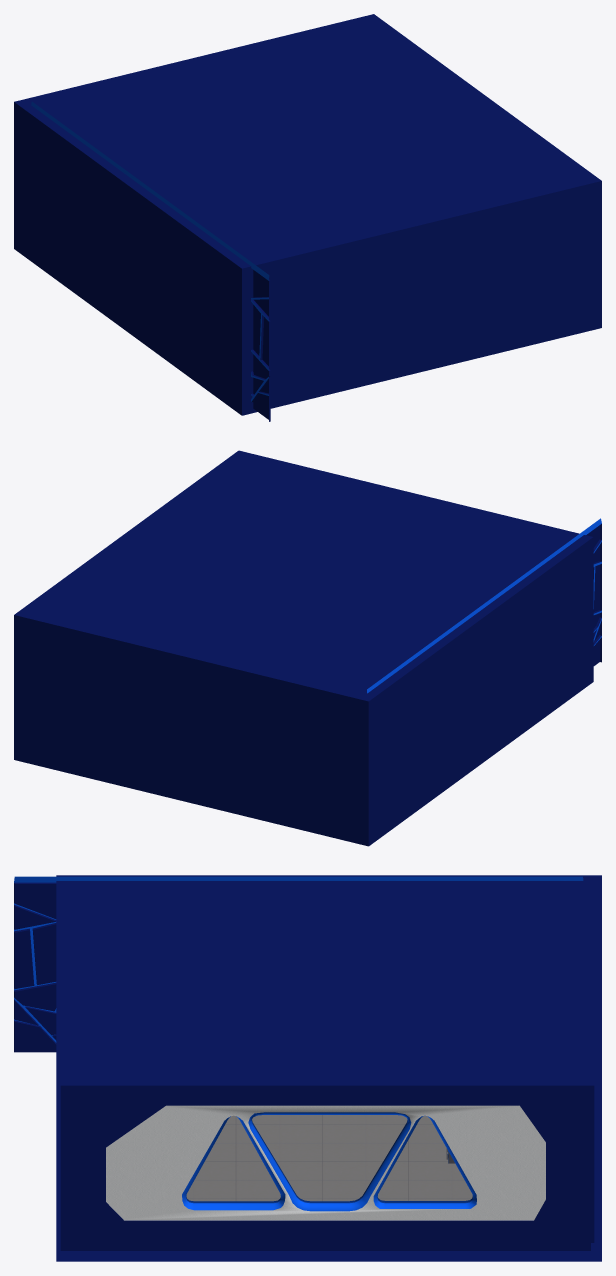
File: huaxuekeshi.FBX
The picture shows the model from 3 angles, top to bottom: view 1: azimuth 30°, elevation 25°; view 2: azimuth 150°, elevation 25°; view 3: azimuth 270°, elevation 25°; orthographic projection. The views are drawn at different scales.
Parts seen in each view (by area): view 1: Box091, kejiqiang; view 2: Box091, kejiqiang; view 3: Box091, Box090, Box015, Box016, kx_yqdct_cizhuan, kejiqiang, Box075.
Part boxes in pixels (bbox=[...]): Box091: bbox=[14, 14, 601, 415]; kejiqiang: bbox=[31, 101, 270, 421]; Box091: bbox=[14, 450, 593, 846]; kejiqiang: bbox=[367, 518, 601, 693]; Box091: bbox=[56, 875, 601, 1261]; Box090: bbox=[60, 1085, 590, 1250]; Box015: bbox=[106, 1105, 545, 1220]; Box016: bbox=[186, 1115, 472, 1202]; kx_yqdct_cizhuan: bbox=[186, 1115, 472, 1201]; kejiqiang: bbox=[14, 876, 583, 1052]; Box075: bbox=[591, 1085, 594, 1242].
Size of the model in its own units: 9.79 by 3.92 by 11.57.
